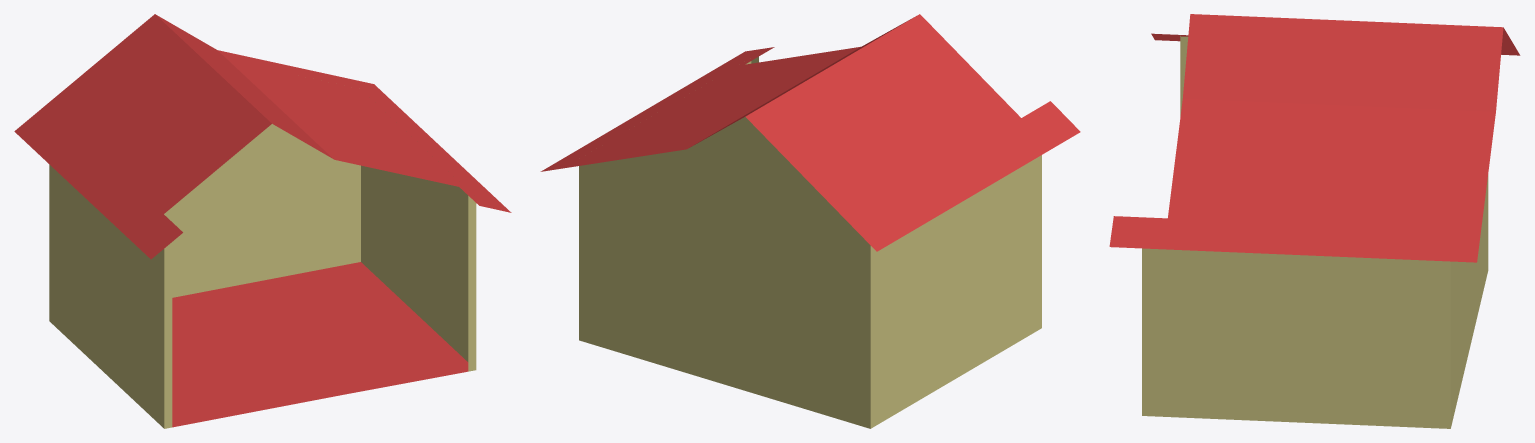
3 views of the same model, side by side, from view 1: azimuth 30°, elevation 25°; view 2: azimuth 150°, elevation 25°; view 3: azimuth 270°, elevation 25° (orthographic). The views are drawn at different scales.
Bounding box in the file's own units: 12.02 × 10.5 × 8.55.
